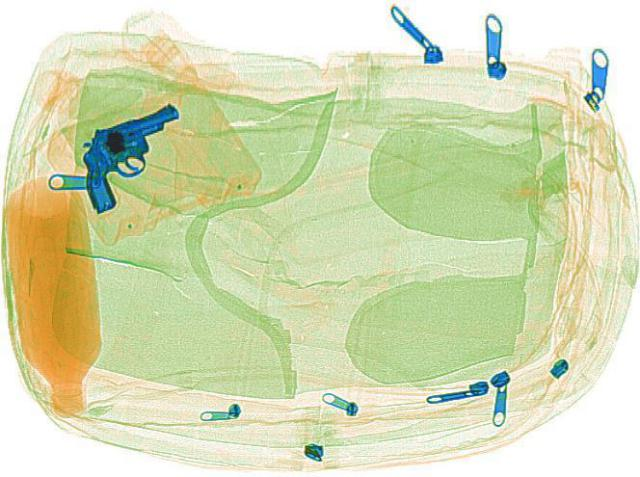Gun: (36, 89, 214, 212)
